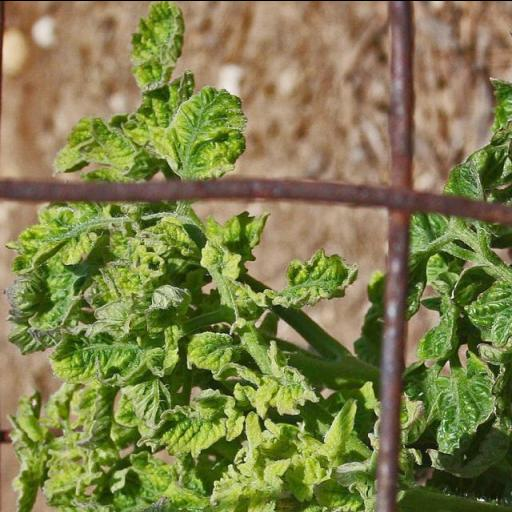disease_tomato: (164, 82, 250, 186), (138, 390, 262, 454), (12, 206, 115, 278), (48, 320, 156, 385), (48, 114, 146, 180), (270, 247, 362, 313), (123, 2, 187, 90), (198, 210, 266, 288), (186, 315, 244, 373)
